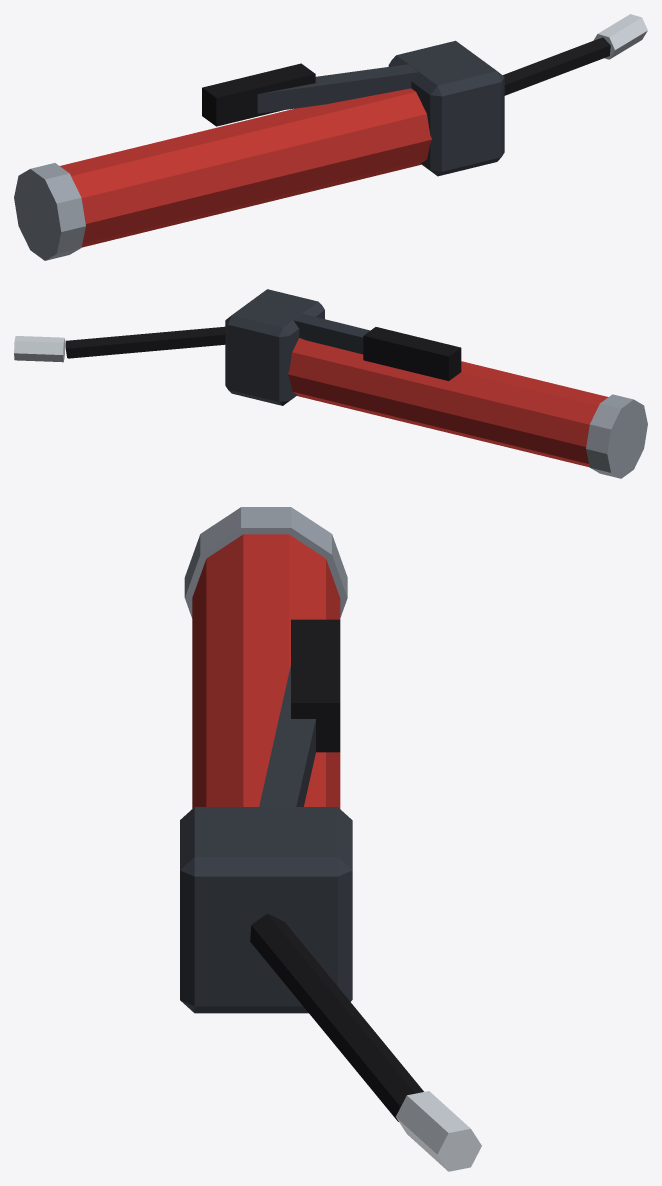
File: Grease_Gun.fbx
The picture shows the model from 3 angles, top to bottom: view 1: azimuth 30°, elevation 25°; view 2: azimuth 150°, elevation 25°; view 3: azimuth 270°, elevation 25°; orthographic projection. The views are drawn at different scales.
Visible parts, largest first — view 1: Grease_Gun; view 2: Grease_Gun; view 3: Grease_Gun.
Boxes of the visible parts, left/top/right/bottom form: Grease_Gun: left=14, top=14, right=647, bottom=260; Grease_Gun: left=14, top=289, right=647, bottom=478; Grease_Gun: left=180, top=507, right=481, bottom=1171.
Bounding box in the file's own units: 0.5324 × 0.0824 × 0.1225.
Materials: 1 (1 with a texture image).
